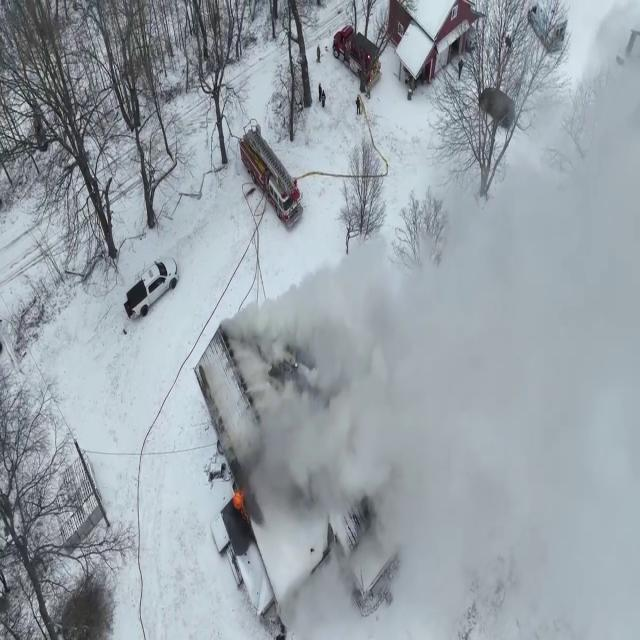Smoke: (231, 29, 640, 636)
